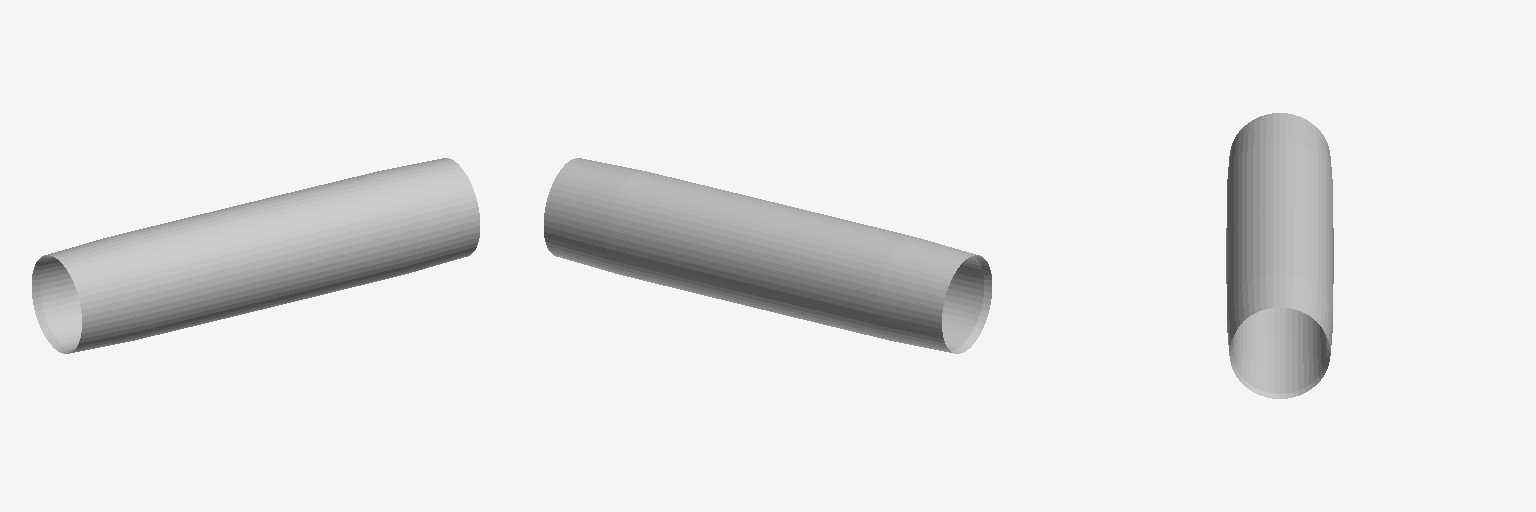
Rendered from Pipe.obj.
3 views of the same model, side by side, from view 1: azimuth 30°, elevation 25°; view 2: azimuth 150°, elevation 25°; view 3: azimuth 270°, elevation 25° (orthographic).
Parts seen in each view (by area): view 1: Torus; view 2: Torus; view 3: Torus.
Part boxes in pixels (left/top/right/bottom): Torus: left=32, top=158, right=479, bottom=353; Torus: left=544, top=158, right=991, bottom=353; Torus: left=1226, top=113, right=1333, bottom=398.
Bounding box in the file's own units: 4.59 × 1.07 × 1.07.